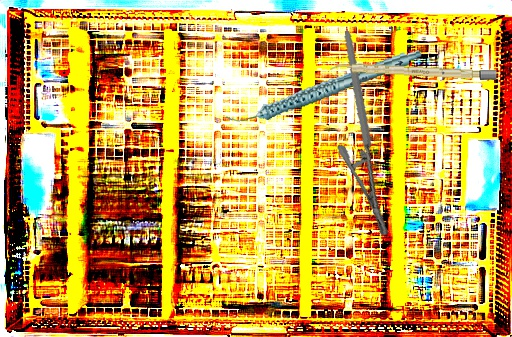Handpiece: (220, 49, 428, 126)
Needle Holder: (314, 30, 419, 238)
Scalpel Handle: (329, 61, 498, 81)
